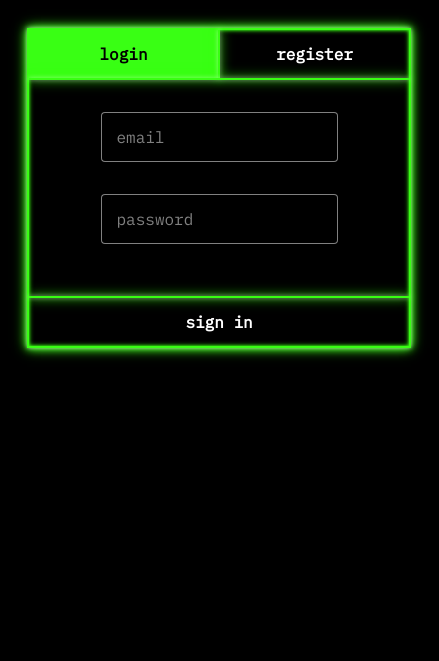
Test case: <Login /> › switches between login and register
Click the button with id "welcomeRegister".
click(315, 54)  # box left=220, top=30, right=409, bottom=78
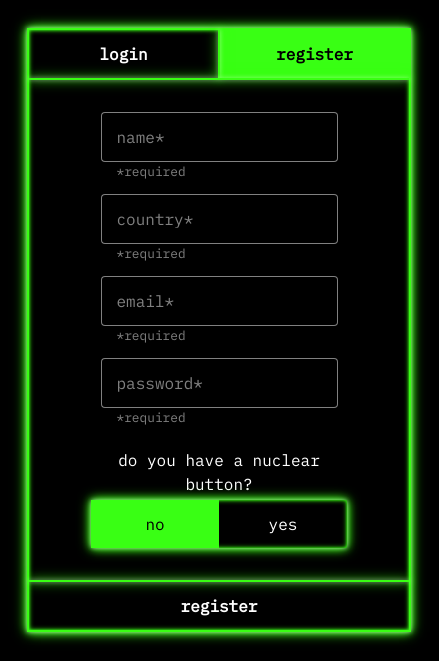
Click the button with id "welcomeLogin".
click(124, 54)  # box left=29, top=30, right=218, bottom=78
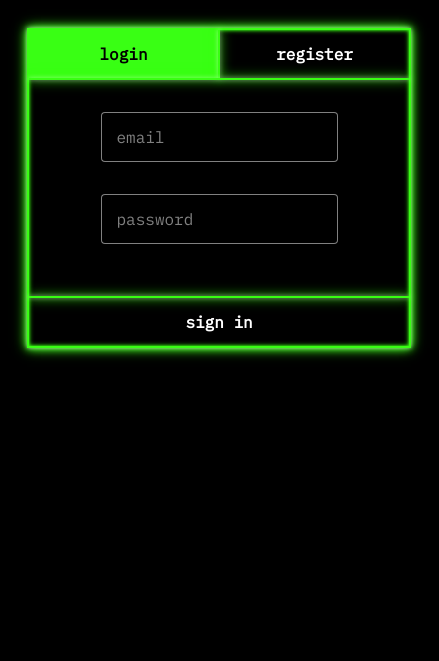
Result: the button with id "loginConfirm" is shown at left=29, top=298, right=409, bottom=346
